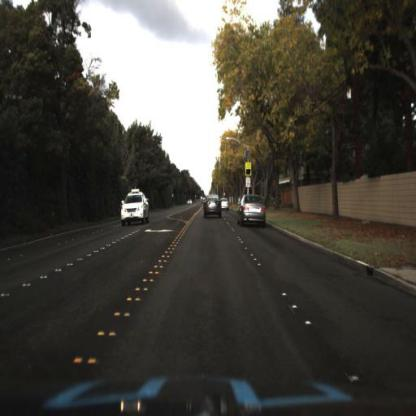car: (231, 188, 273, 235), (117, 187, 154, 229), (200, 190, 227, 223), (186, 195, 196, 212), (221, 194, 231, 210)
